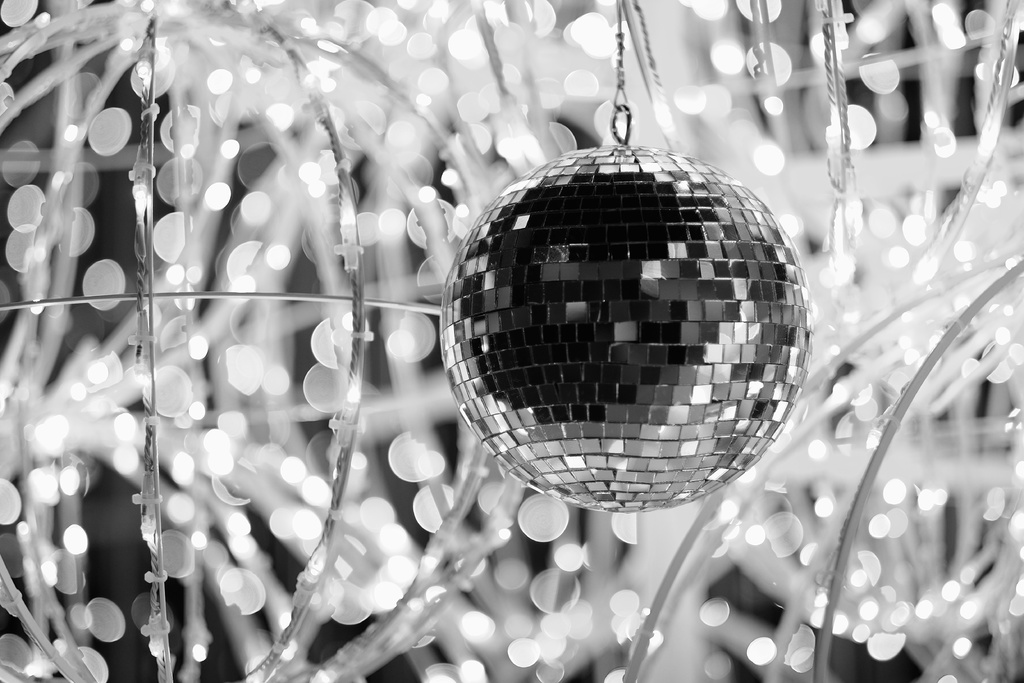Ball: (438, 105, 812, 509)
